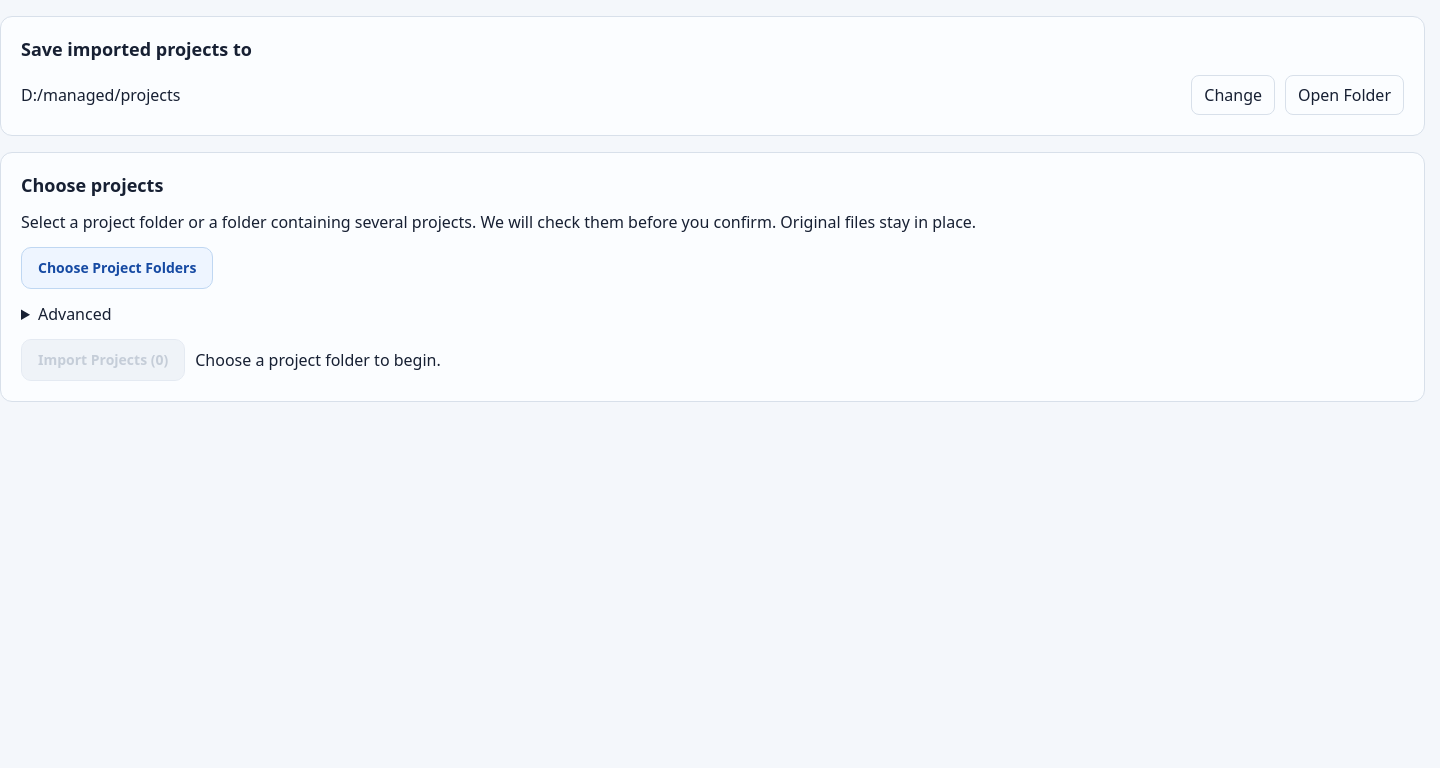
Test: uses the server-reviewed location in confirmation when Settings changed after the page loaded
The width and height of the screenshot is (1440, 768).
What coordinates should you click on to do the following:
click the button "Choose Project Folders"
I would click on:
 (117, 268)
Its box is x1=21 y1=247 x2=213 y2=289.
(page scrolled)
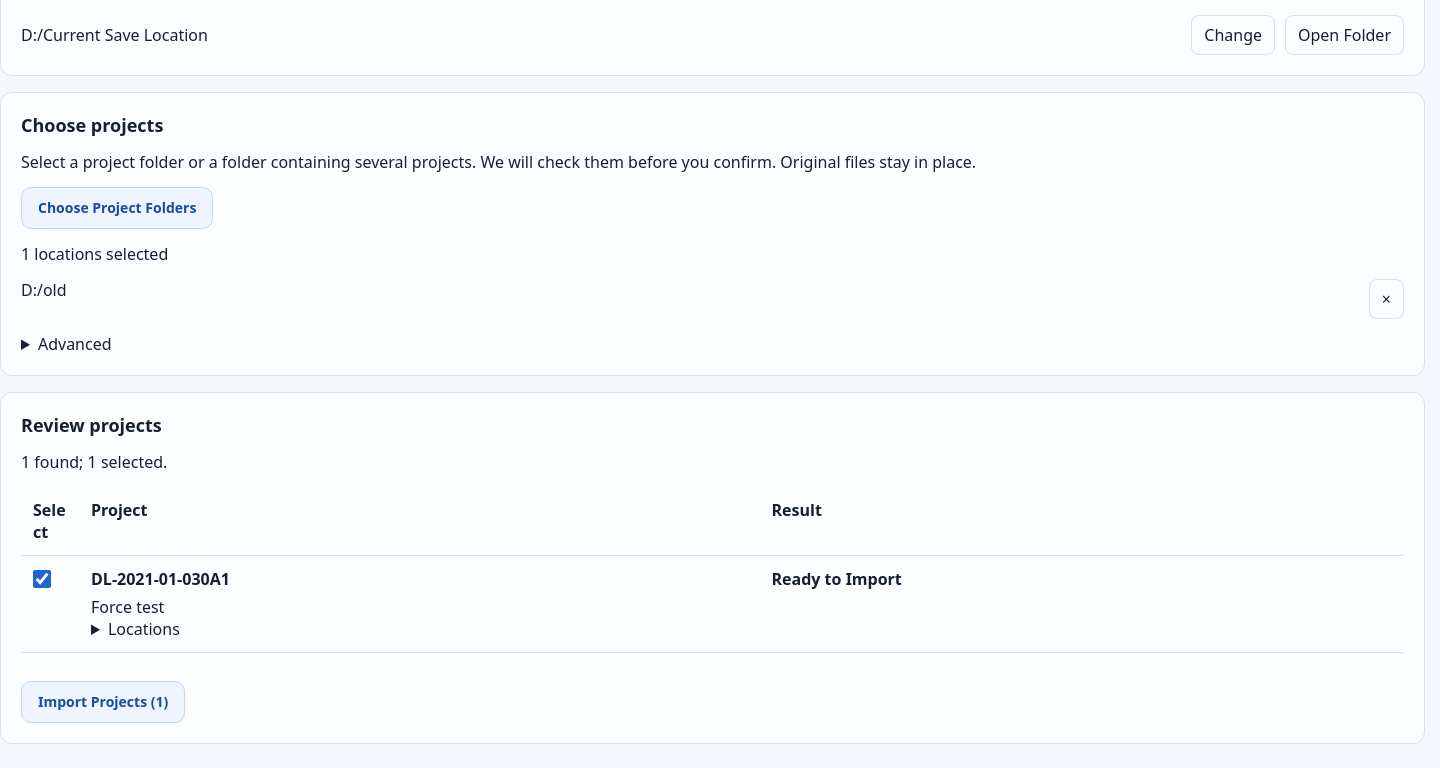
What coordinates should you click on to do the following:
click the button "Import Projects (1)"
I would click on:
 (103, 702)
Its box is x1=21 y1=681 x2=185 y2=723.
(page scrolled)
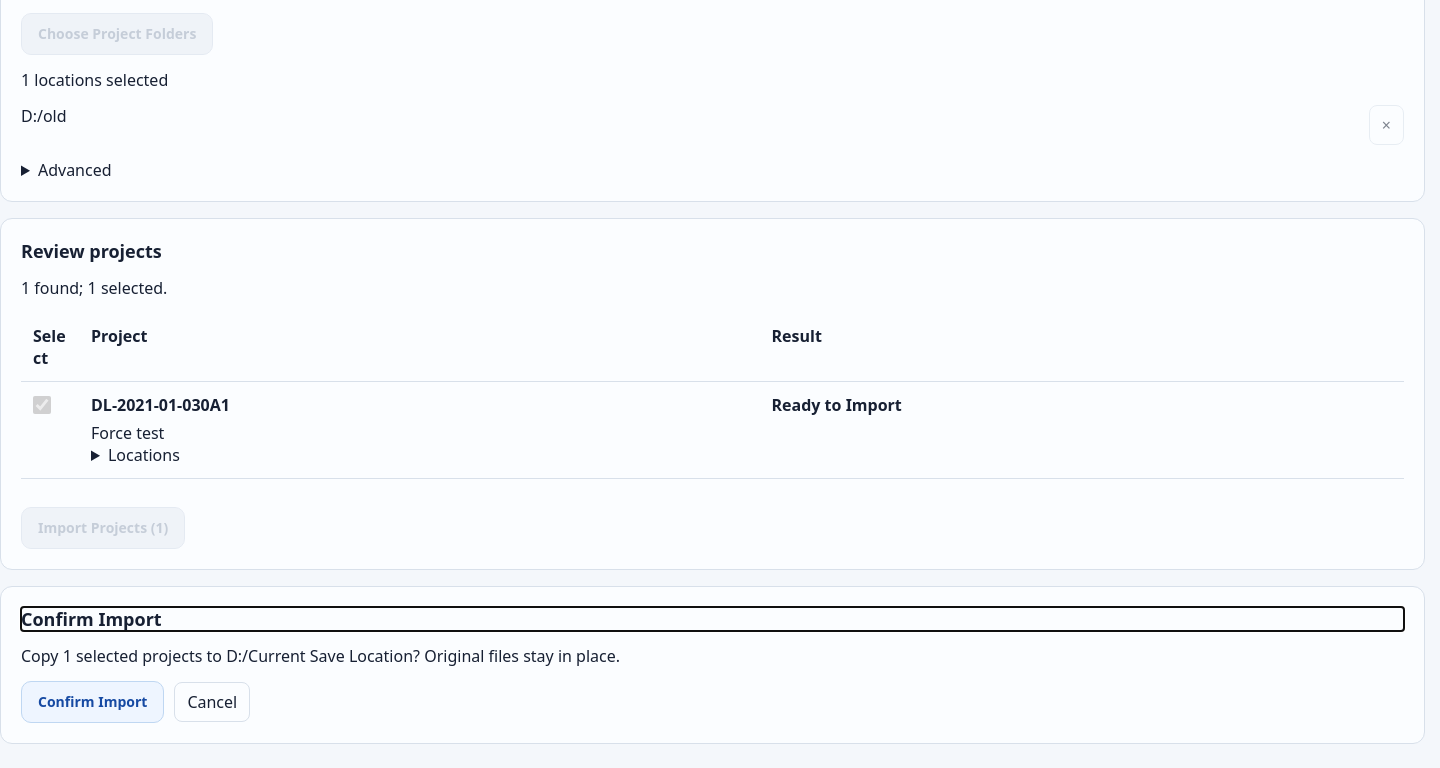
expect the text "Confirm Import" does not show "D:/managed/projects": met
expect the dialog "Confirm Import" shows "D:/Current Save Location": met, box x1=226 y1=645 x2=413 y2=667
